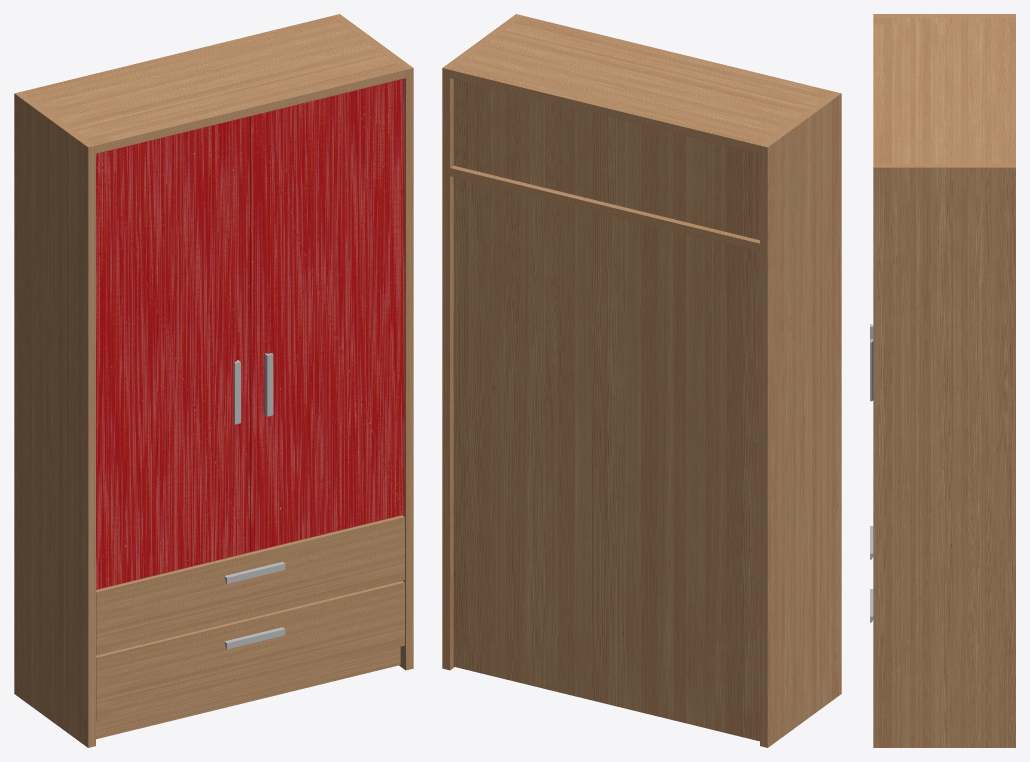
File: Wardrobe 5.FBX
3 renders of one model, left to right at view 1: azimuth 30°, elevation 25°; view 2: azimuth 150°, elevation 25°; view 3: azimuth 270°, elevation 25°, orthographic. The views are drawn at different scales.
Visible parts, largest first — view 1: wardrobe 5, door B, door A, drawer A, drawer B; view 2: wardrobe 5; view 3: wardrobe 5.
Part boxes in pixels (<box>): wardrobe 5: <box>14,14,413,747</box>; door B: <box>250,78,404,551</box>; door A: <box>96,116,249,589</box>; drawer A: <box>96,515,404,655</box>; drawer B: <box>96,581,404,720</box>; wardrobe 5: <box>442,14,841,747</box>; wardrobe 5: <box>873,14,1015,747</box>.
Size of the model in its own units: 125 by 220 by 50.13.
